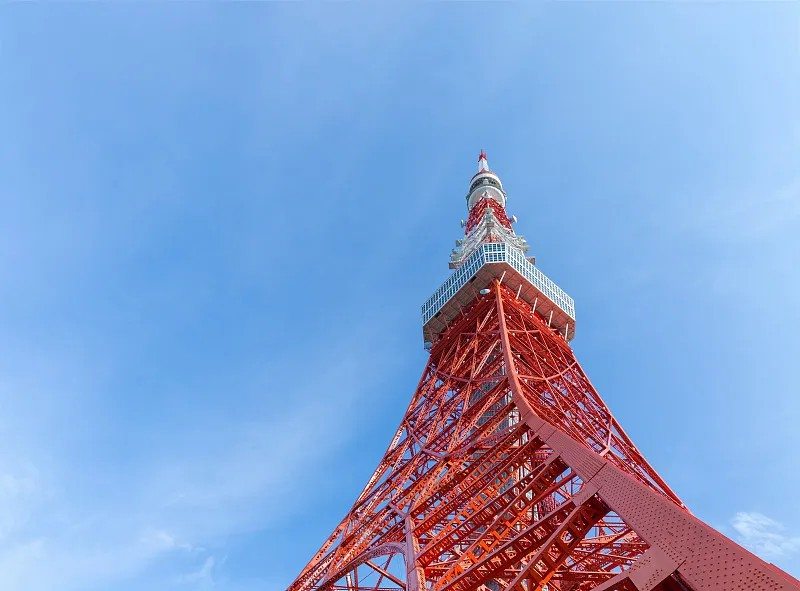Tokyo: (285, 150, 800, 591)
